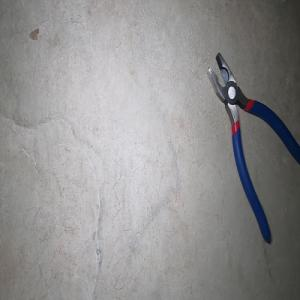Pliers: (206, 52, 300, 244)
